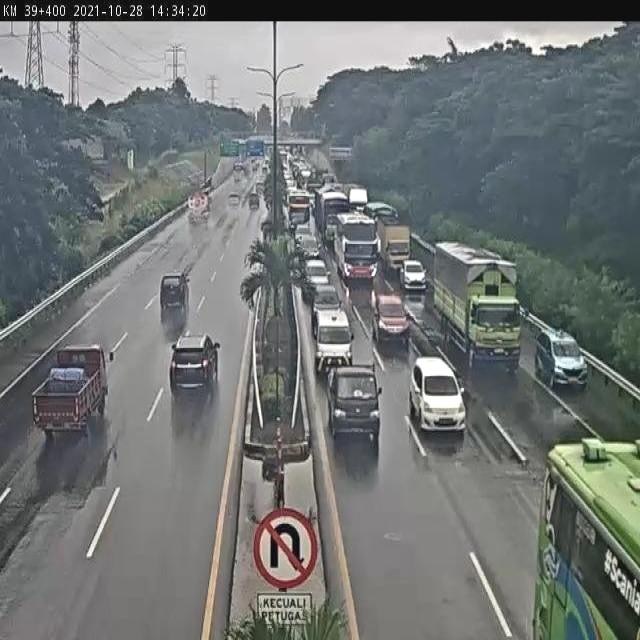Bus: (532, 436, 640, 638), (334, 216, 377, 284), (233, 162, 243, 172)
Car: (408, 357, 466, 433), (536, 327, 588, 391), (169, 331, 219, 396), (373, 291, 409, 347), (310, 282, 343, 323), (160, 273, 188, 315), (303, 258, 331, 294), (295, 232, 321, 269), (399, 260, 427, 293), (255, 173, 266, 194), (228, 193, 240, 207), (233, 168, 242, 182), (252, 158, 260, 172), (262, 163, 268, 176)
Truck: (433, 242, 522, 376), (32, 344, 110, 440), (324, 364, 382, 449), (188, 191, 211, 225), (248, 192, 260, 210)
Van: (313, 307, 355, 375)
